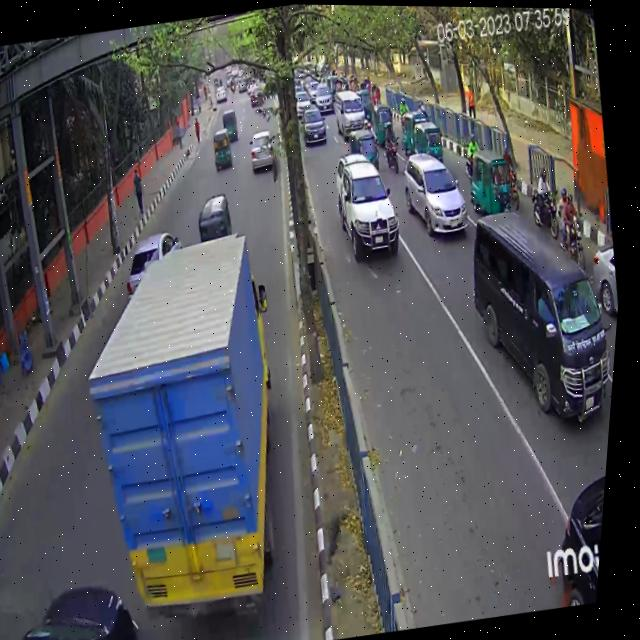cng: (467, 146, 523, 223), (347, 119, 387, 182), (413, 116, 453, 166), (370, 100, 400, 149), (211, 128, 241, 174), (401, 107, 429, 149), (223, 108, 244, 151)
